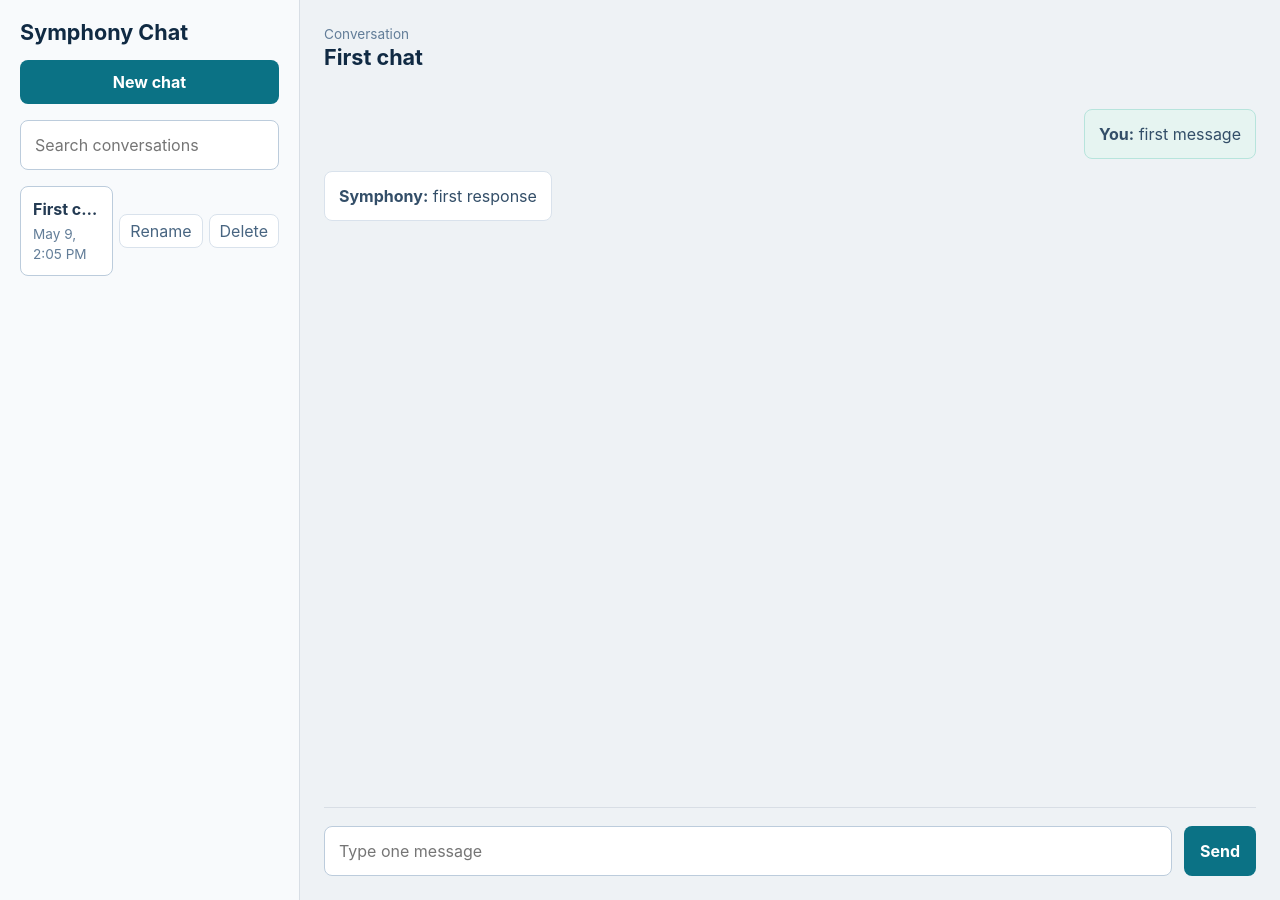
Test: App › keeps the visible conversation during a send error
Expected: the text "first response" is shown, x1=433 y1=186 x2=537 y2=206
Type "failing message" into the field labelled "message". click: (748, 851)
box: x1=324 y1=826 x2=1172 y2=876
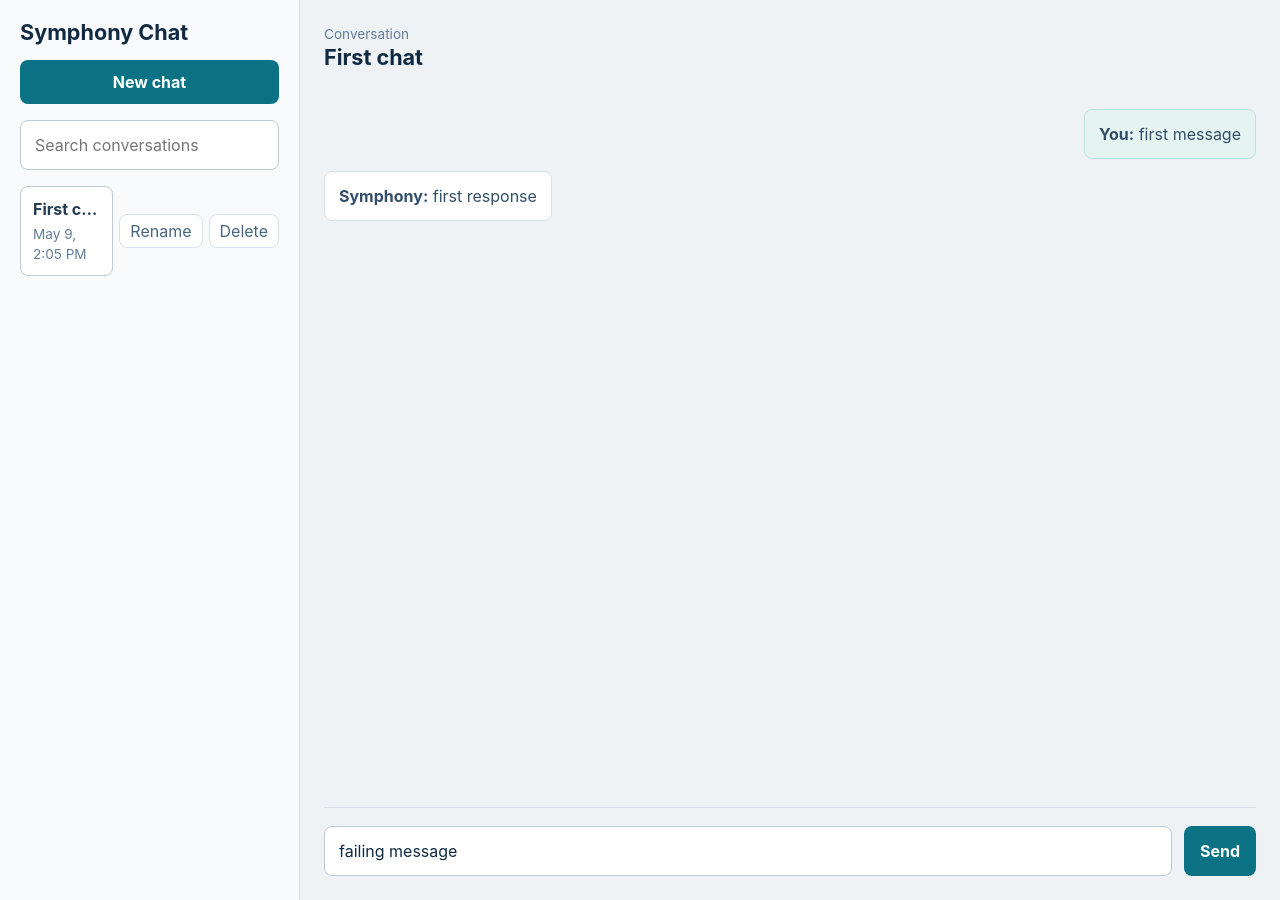
Click the button "Send". click: (1220, 851)
box: x1=1184 y1=826 x2=1256 y2=876
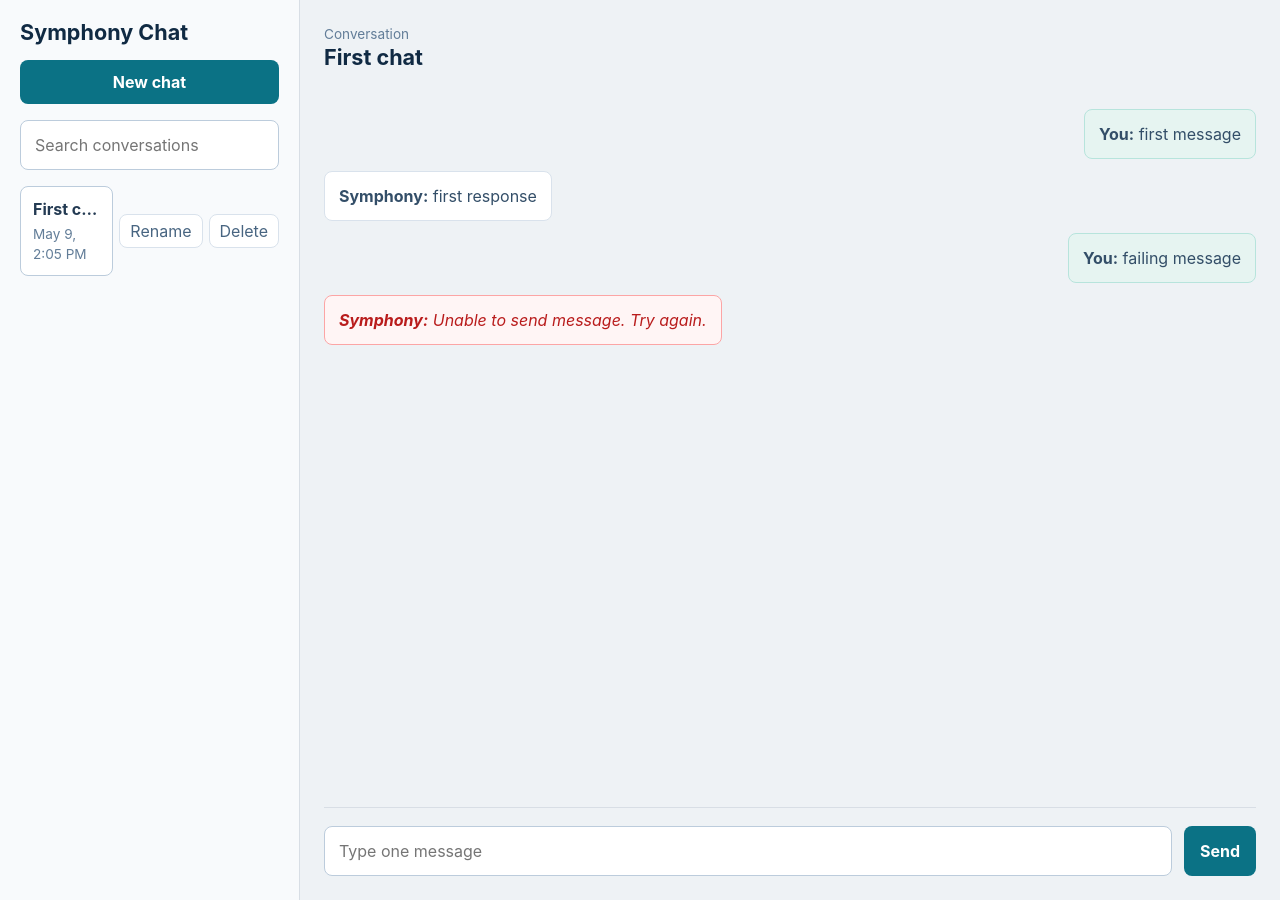
Expected: the text "first message" is shown, x1=1139 y1=124 x2=1241 y2=144
Result: the text "Unable to send message. Try again." is shown at x1=433 y1=310 x2=706 y2=330
Result: the text "failing message" is shown at x1=1123 y1=248 x2=1241 y2=268
